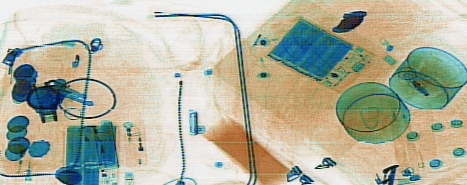lighter: (122, 119, 148, 169), (14, 131, 33, 181)
powerbank: (261, 12, 377, 94), (62, 119, 119, 183)
